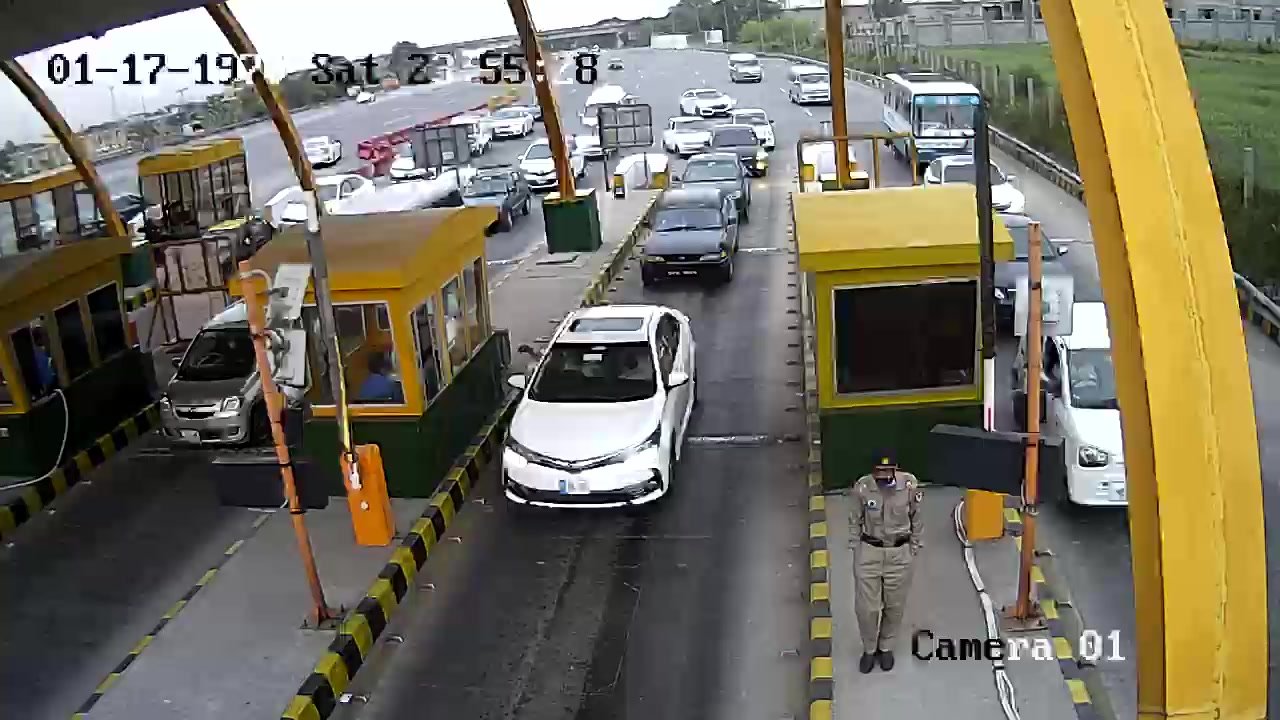F1: (478, 302, 707, 551)
